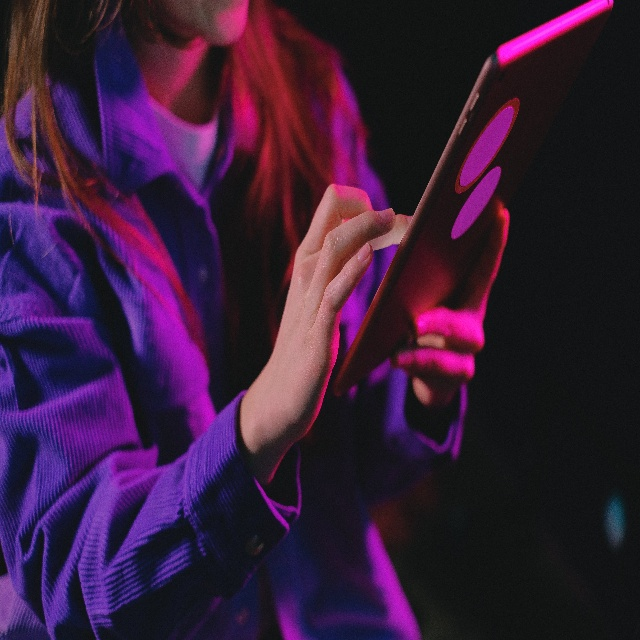Sin_guantes: (253, 177, 415, 446), (393, 215, 509, 400)
